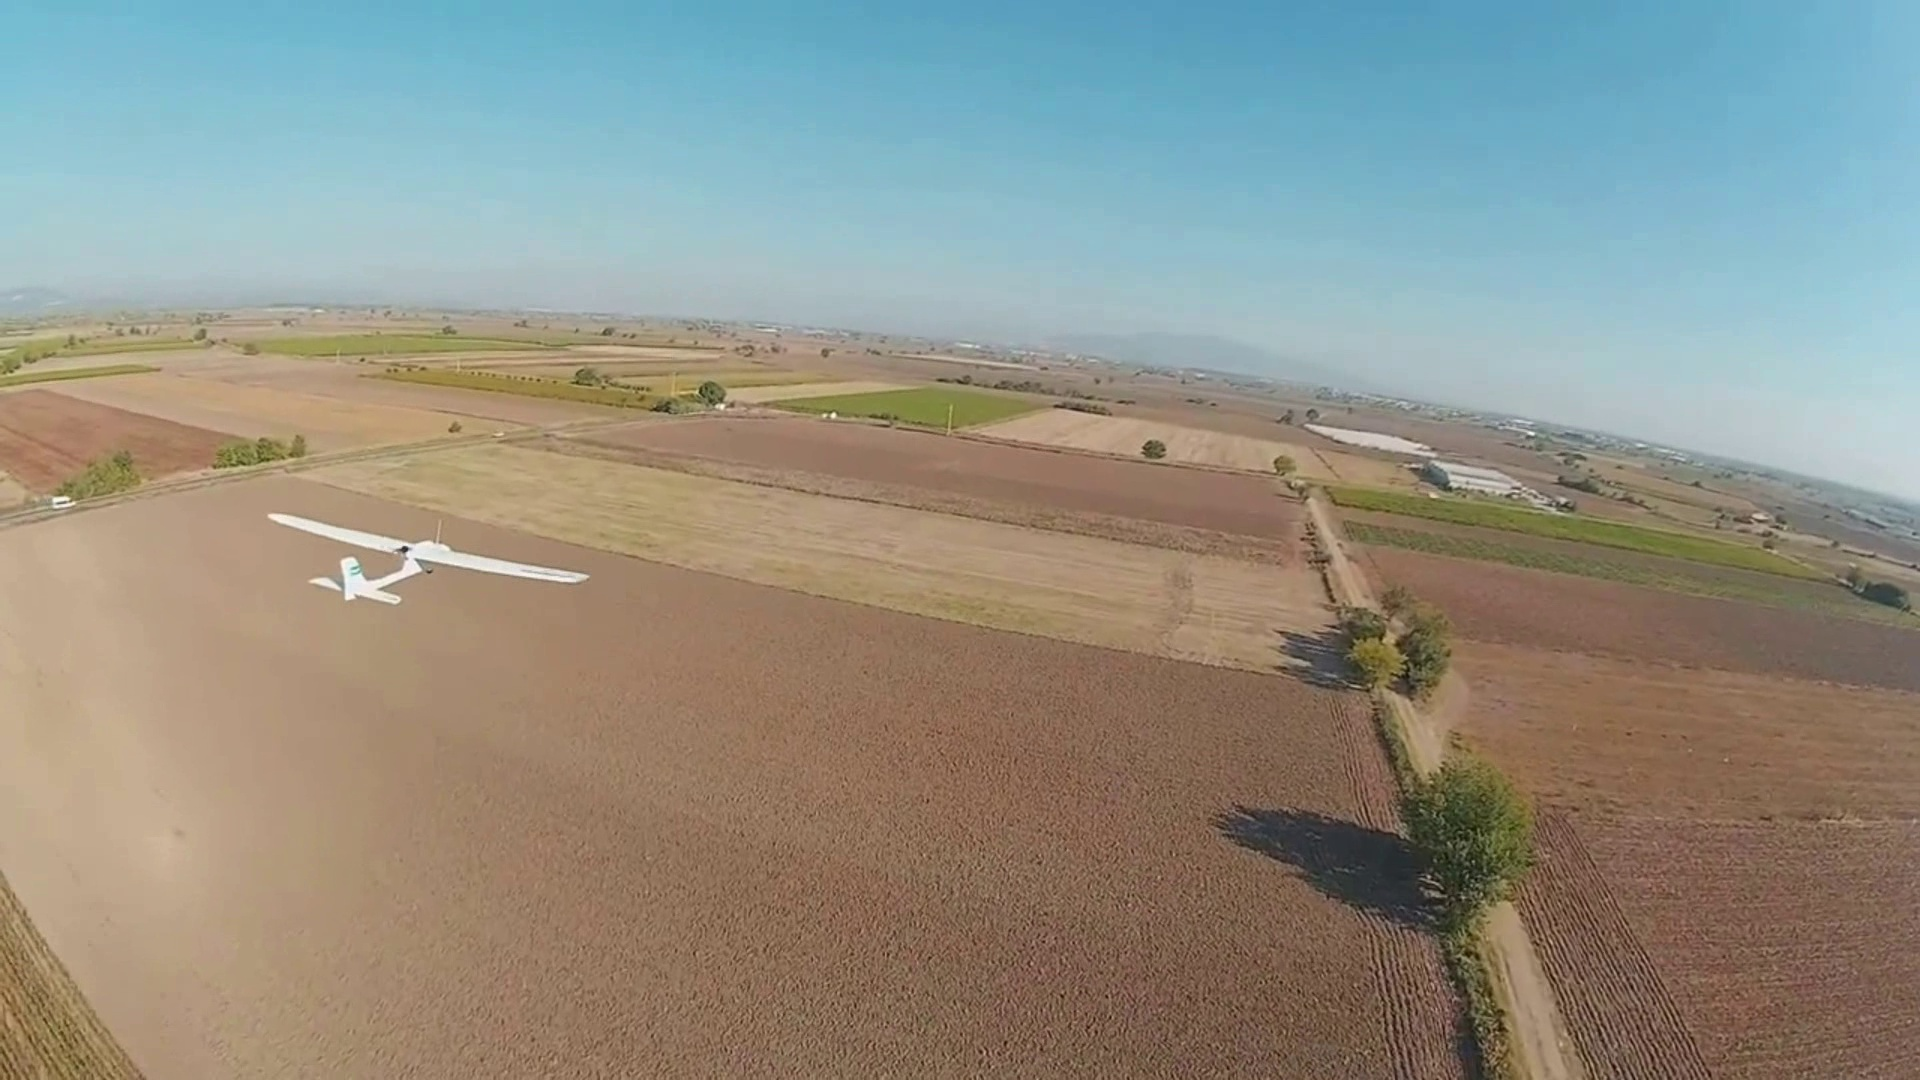airplane: (266, 504, 589, 604)
